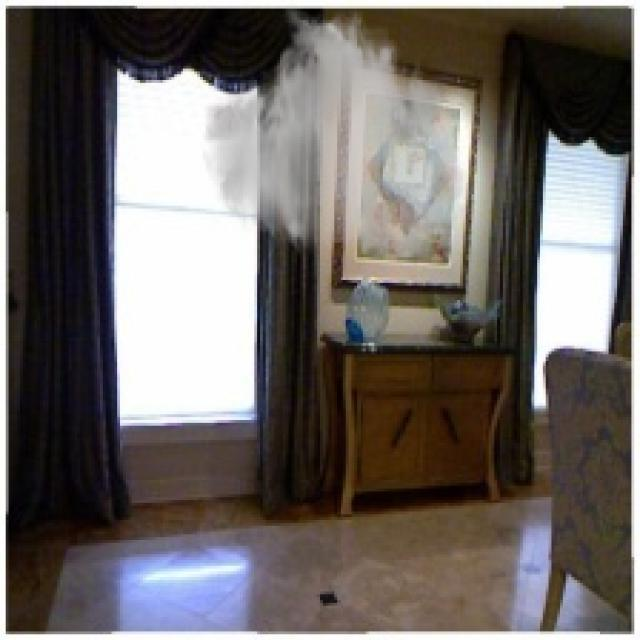Smoke: (199, 3, 472, 266)
